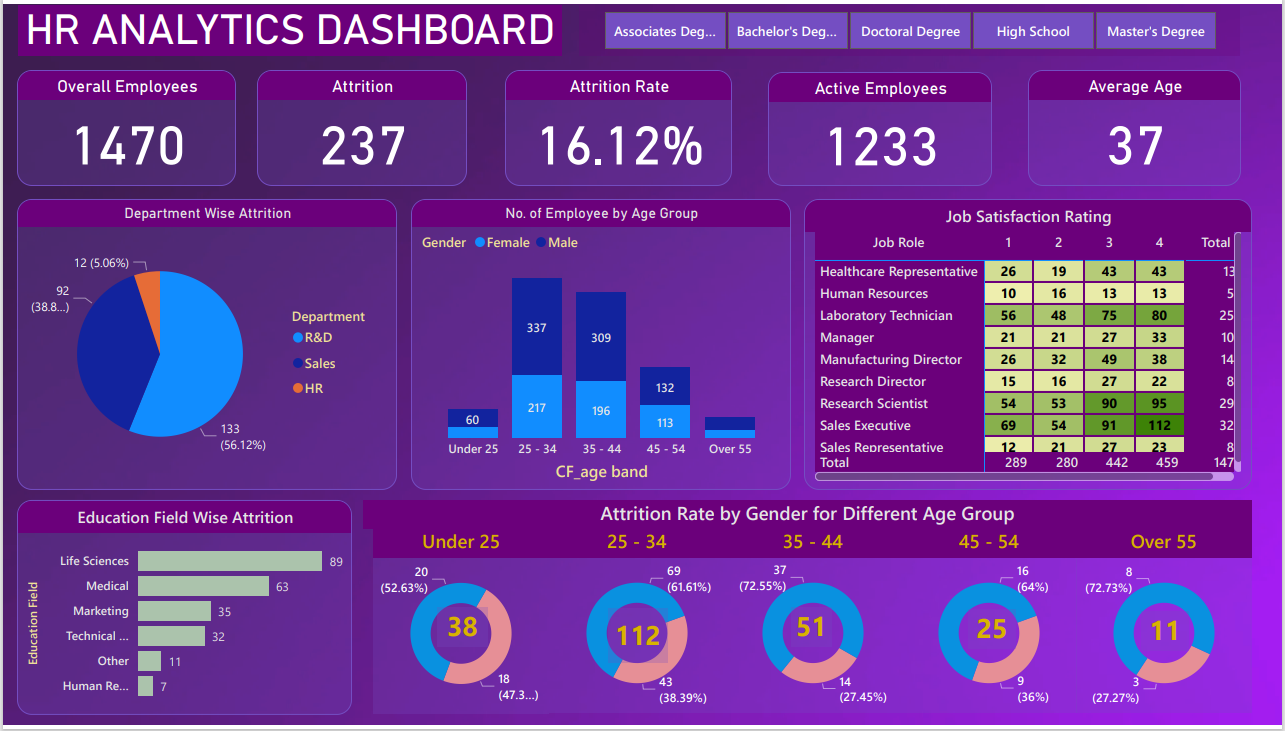

The dashboard page shown, as its layout file describes it:
{"tool":"powerbi","page":{"name":"Page 1","canvas":[1280,720],"ordinal":0},"visuals":[{"type":"card","title":"Overall Employees","fields":{"Values":["Sum(HR data.Employee Count)"]},"box":[14.3,65.2,219.3,116],"z":0},{"type":"card","title":"Attrition","fields":{"Values":["Sum(HR data.Attrition Count)"]},"box":[254.3,65.2,209.8,116],"z":1000},{"type":"card","title":"Attrition Rate","fields":{"Values":["HR data.Attrition Rate"]},"box":[502.3,65.2,227.3,116],"z":2000},{"type":"card","title":"Active Employees","fields":{"Values":["HR data.Active Employees"]},"box":[764.5,66.8,224.1,114.4],"z":3000},{"type":"card","title":"Average Age","fields":{"Values":["Avg(HR data.Age)"]},"box":[1025.2,65.2,213,116],"z":4000},{"type":"pieChart","title":"Department Wise Attrition","fields":{"Category":["HR data.Department"],"Y":["Sum(HR data.Attrition Count)"]},"box":[14.3,193.9,379.9,290.9],"z":5000},{"type":"columnChart","title":"No. of Employee by Age Group","fields":{"Category":["HR data.CF_age band"],"Y":["Sum(HR data.Employee Count)"],"Series":["HR data.Gender"]},"box":[408.5,193.9,379.9,290.9],"z":6000},{"type":"pivotTable","title":"Job Satisfaction Rating","fields":{"Rows":["HR data.Job Role"],"Columns":["HR data.Job Satisfaction"],"Values":["Sum(HR data.Employee Count)"]},"box":[801.1,193.9,448.2,290.9],"z":7000},{"type":"clusteredBarChart","title":"Education Field Wise Attrition","fields":{"Category":["HR data.Education Field"],"Y":["Sum(HR data.Attrition Count)"]},"box":[14,495,335,215],"z":8000},{"type":"donutChart","title":"Under 25","fields":{"Category":["HR data.Gender"],"Y":["Sum(HR data.Attrition Count)"],"Series":["HR data.CF_age band"]},"box":[370.3,522.9,176.4,186],"z":9000},{"type":"textbox","title":"Attrition Rate by Gender for Different Age Group","box":[359.5,495.3,889.2,28.7],"z":10000},{"type":"donutChart","title":"25 - 34","fields":{"Category":["HR data.Gender"],"Y":["Sum(HR data.Attrition Count)"],"Series":["HR data.CF_age band"]},"box":[546.1,523.5,175.7,185.2],"z":11000},{"type":"donutChart","title":"35 - 44","fields":{"Category":["HR data.Gender"],"Y":["Sum(HR data.Attrition Count)"],"Series":["HR data.CF_age band"]},"box":[721.9,523.5,175.7,185.2],"z":12000},{"type":"donutChart","title":"45 - 54","fields":{"Category":["HR data.Gender"],"Y":["Sum(HR data.Attrition Count)"],"Series":["HR data.CF_age band"]},"box":[897.6,523.5,175.7,185.2],"z":13000},{"type":"donutChart","title":"Over 55","fields":{"Category":["HR data.Gender"],"Y":["Sum(HR data.Attrition Count)"],"Series":["HR data.CF_age band"]},"box":[1073.4,523.5,175.7,185.2],"z":14000},{"type":"card","fields":{"Values":["Sum(HR data.Attrition Count)"]},"box":[433.9,602.4,50.9,39.7],"z":15000},{"type":"card","fields":{"Values":["Sum(HR data.Attrition Count)"]},"box":[604.7,602.8,60.5,54.8],"z":16000},{"type":"card","fields":{"Values":["Sum(HR data.Attrition Count)"]},"box":[788.3,602.4,41.3,39.7],"z":17000},{"type":"card","fields":{"Values":["Sum(HR data.Attrition Count)"]},"box":[964.8,604,47.7,39.7],"z":18000},{"type":"card","fields":{"Values":["Sum(HR data.Attrition Count)"]},"box":[1138,605.6,47.7,39.7],"z":19000},{"type":"textbox","title":"HR ANALYTICS DASHBOARD","box":[15.1,0,544.3,51],"z":20000},{"type":"slicer","fields":{"Values":["HR data.Education"]},"box":[576.4,0,661.4,51],"z":21000}]}

Visuals, with their boxes in screenshot pixels (x1, y1, x2, y2), scaled from the page's 1280x720 canvas onto the 1285x731 screenshot:
"Overall Employees" card: detection(14, 66, 235, 184)
"Attrition" card: detection(255, 66, 466, 184)
"Attrition Rate" card: detection(504, 66, 732, 184)
"Active Employees" card: detection(767, 68, 992, 184)
"Average Age" card: detection(1029, 66, 1243, 184)
"Department Wise Attrition" pieChart: detection(14, 197, 396, 492)
"No. of Employee by Age Group" columnChart: detection(410, 197, 791, 492)
"Job Satisfaction Rating" pivotTable: detection(804, 197, 1254, 492)
"Education Field Wise Attrition" clusteredBarChart: detection(14, 503, 350, 721)
"Under 25" donutChart: detection(372, 531, 549, 720)
"Attrition Rate by Gender for Different Age Group" textbox: detection(361, 503, 1254, 532)
"25 - 34" donutChart: detection(548, 531, 725, 720)
"35 - 44" donutChart: detection(725, 531, 901, 720)
"45 - 54" donutChart: detection(901, 531, 1077, 720)
"Over 55" donutChart: detection(1078, 531, 1254, 720)
card - Sum(HR data.Attrition Count): detection(436, 612, 487, 652)
card - Sum(HR data.Attrition Count): detection(607, 612, 668, 668)
card - Sum(HR data.Attrition Count): detection(791, 612, 833, 652)
card - Sum(HR data.Attrition Count): detection(969, 613, 1016, 654)
card - Sum(HR data.Attrition Count): detection(1142, 615, 1190, 655)
"HR ANALYTICS DASHBOARD" textbox: detection(15, 0, 562, 52)
slicer - HR data.Education: detection(579, 0, 1243, 52)
